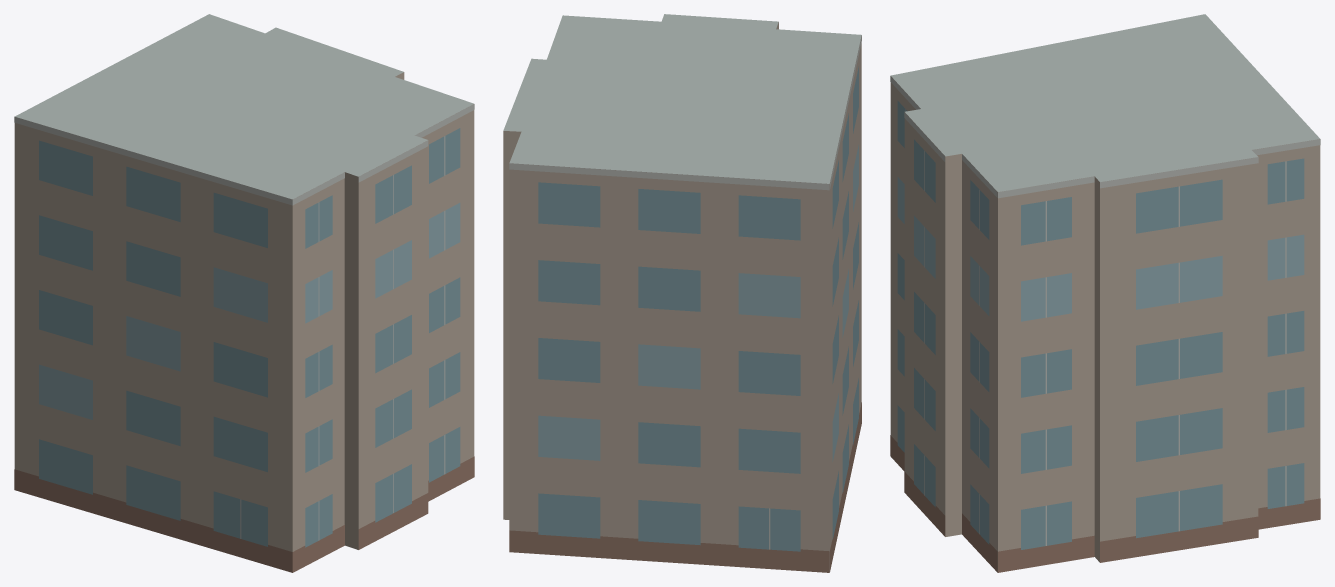
File: survey-upis-32989342.glb
The picture shows the model from 3 angles, left to right: view 1: azimuth 30°, elevation 25°; view 2: azimuth 150°, elevation 25°; view 3: azimuth 270°, elevation 25°; orthographic projection. The views are drawn at different scales.
Visible parts, largest first — view 1: survey-upis-32989342.tmp; view 2: survey-upis-32989342.tmp; view 3: survey-upis-32989342.tmp.
Part boxes in pixels (<box>): survey-upis-32989342.tmp: <box>14,14,474,572</box>; survey-upis-32989342.tmp: <box>503,14,861,572</box>; survey-upis-32989342.tmp: <box>890,14,1320,572</box>.
Size of the model in its own units: 15.07 by 15 by 15.37.
